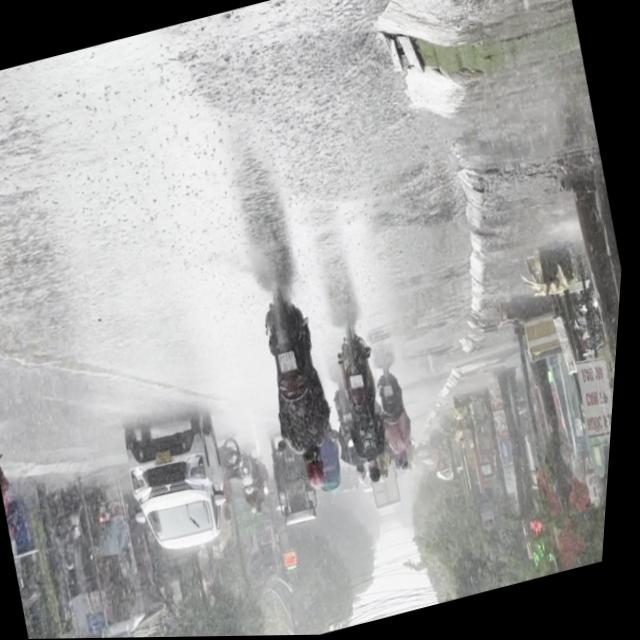helmet: (306, 454, 334, 492)
licenseplate: (245, 280, 359, 499), (0, 420, 45, 593)
nohelmet: (280, 352, 301, 375)
